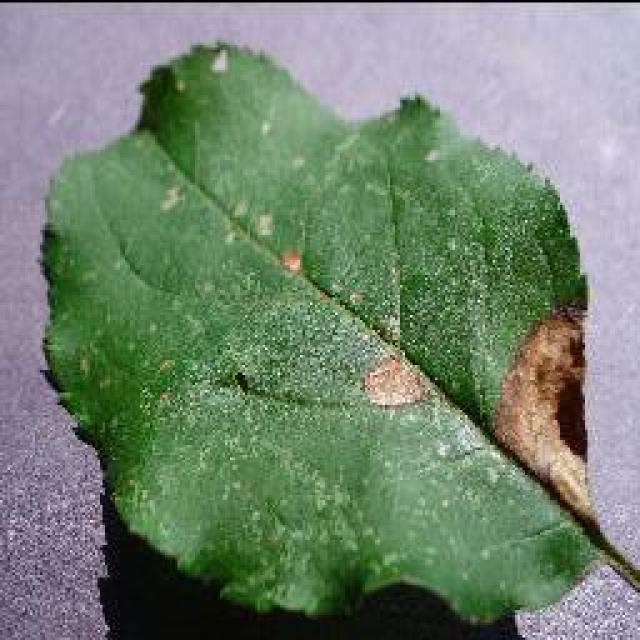apple black rot: (35, 38, 633, 638)
